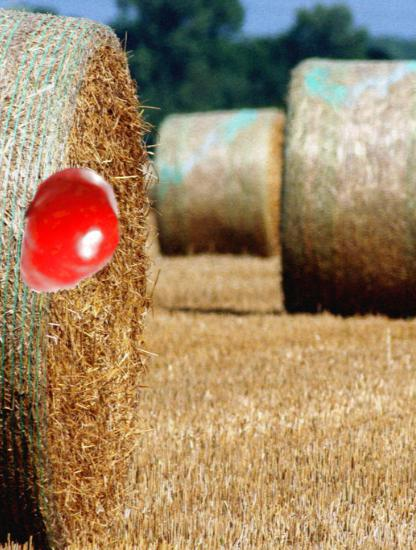Tomato: (3, 166, 138, 301)
